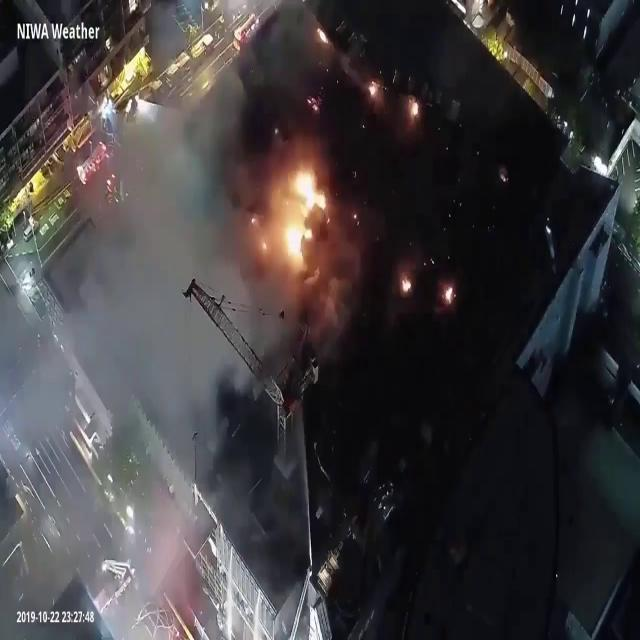Fire: (291, 164, 327, 218), (282, 220, 312, 262), (316, 23, 329, 44), (444, 286, 454, 305), (402, 276, 412, 292), (368, 84, 380, 97), (411, 98, 418, 116)
